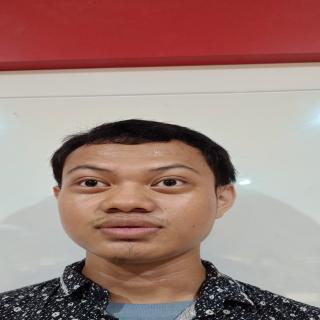Takut: (51, 134, 231, 268)
